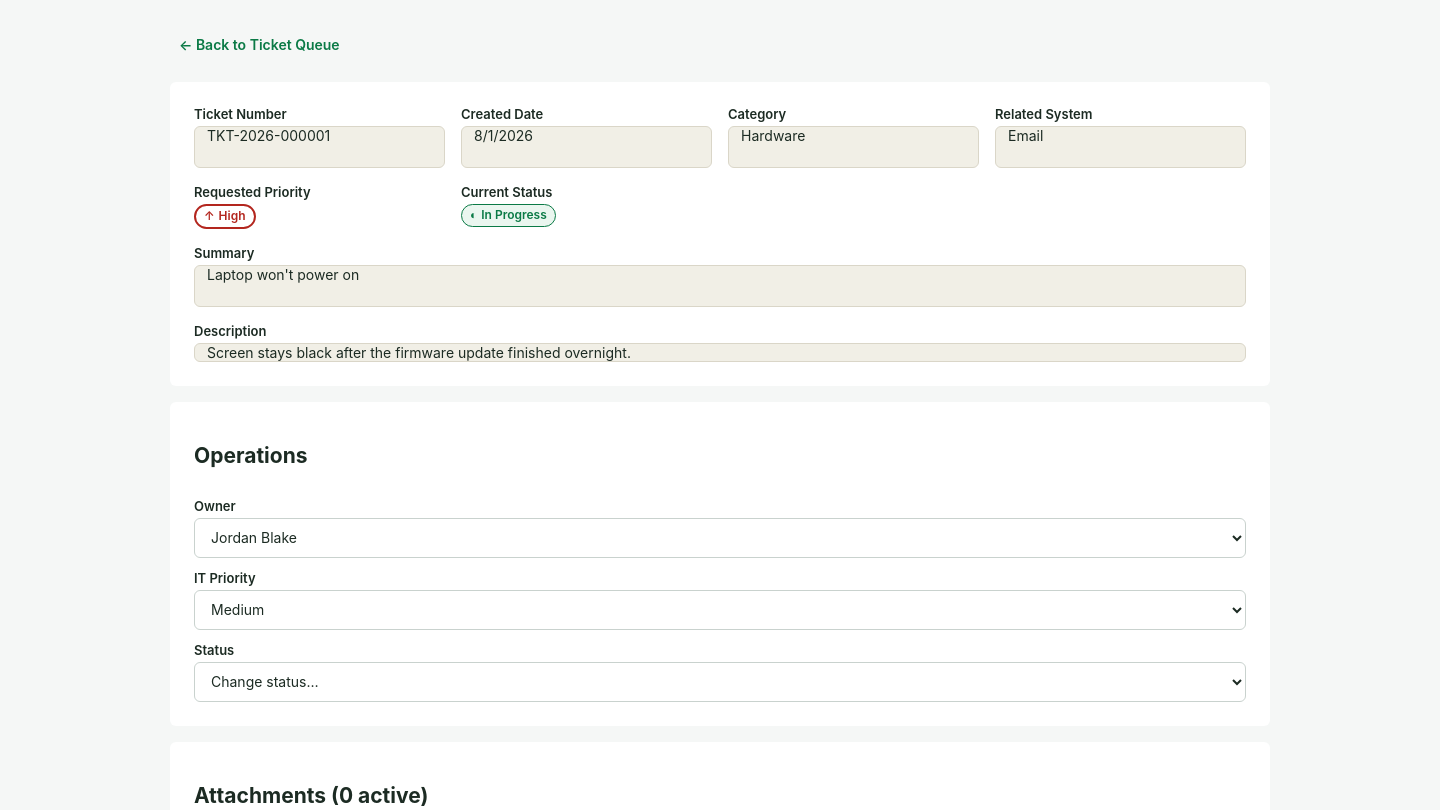
Test case: Ticket workflow controls (BR-15, BR-17) › a stale-write 409 shows the inline conflict banner and disables the controls; Refresh reloads and re-enables them
Select "Resolved" in the dropdown named "Status" at (720, 682), box [194,662,1246,702]
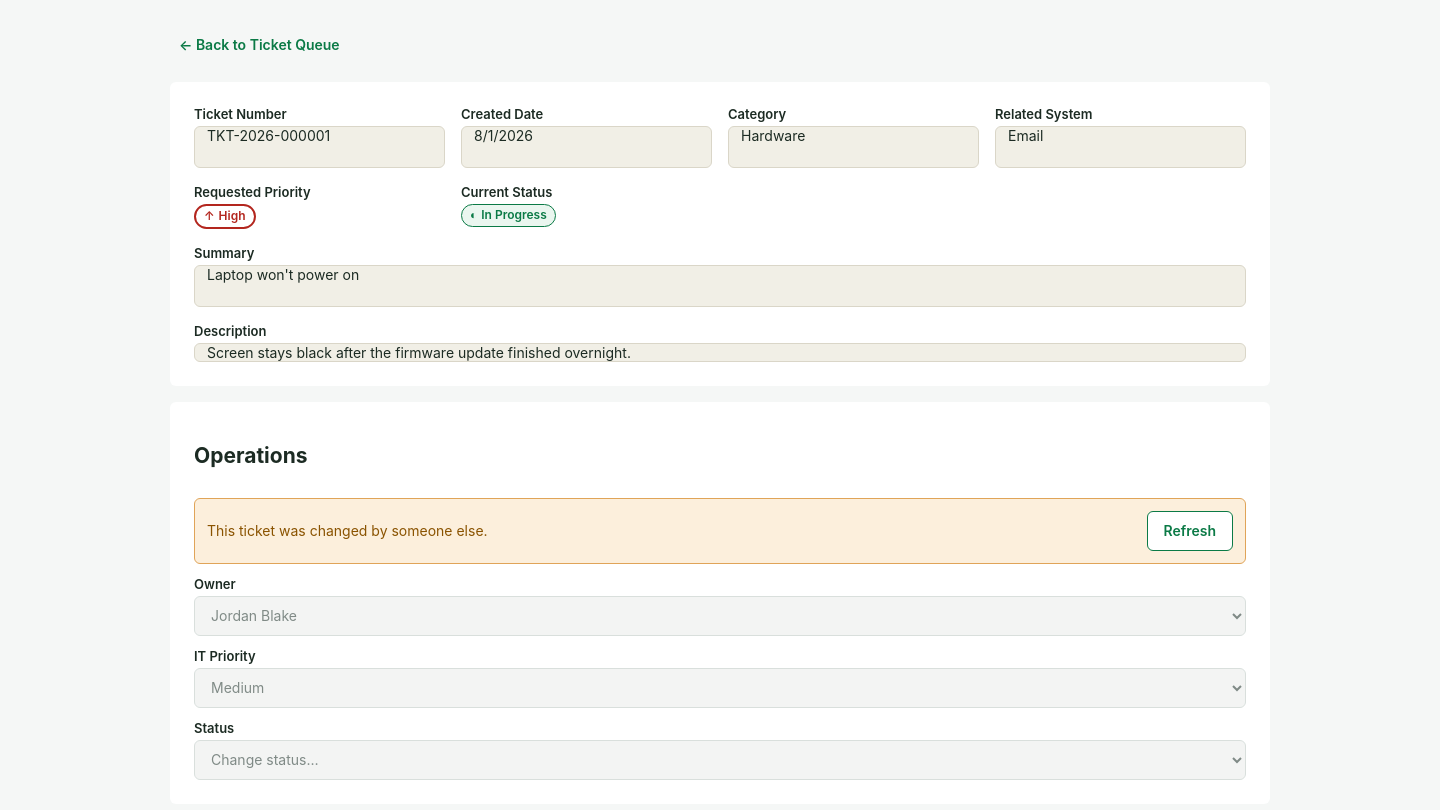
Now the message shows "This ticket was changed by someone else.", box [207,522,488,539]
Now the dropdown named "Status" is disabled, box [194,740,1246,780]
Now the dropdown named "IT Priority" is disabled, box [194,668,1246,708]
Click the button "Refresh" at (1190, 531), box [1146,511,1233,551]
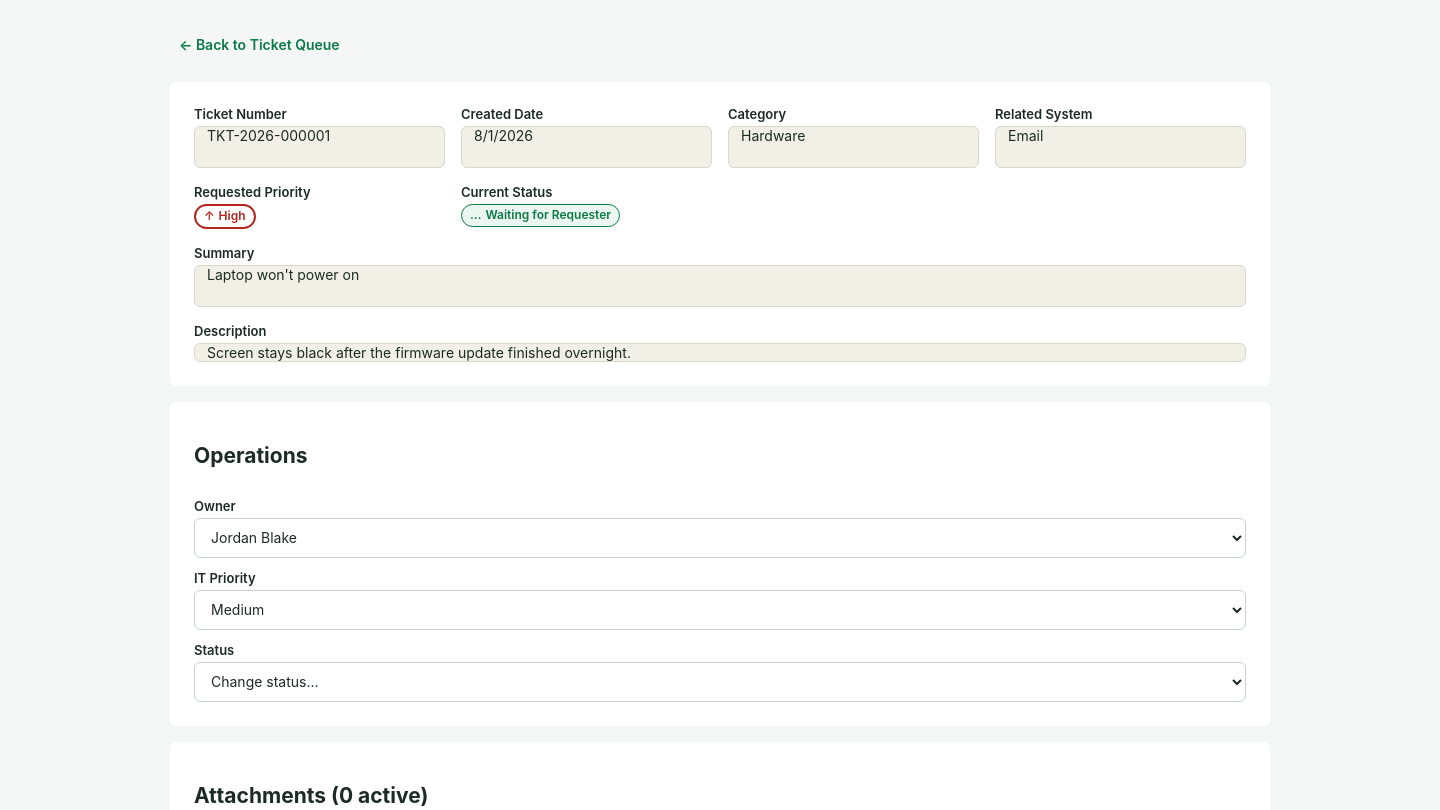
Now the message "This ticket was changed by someone else. Refresh" is gone
Now the dropdown named "Status" is enabled, box [194,662,1246,702]
Now the dropdown named "IT Priority" is enabled, box [194,590,1246,630]
